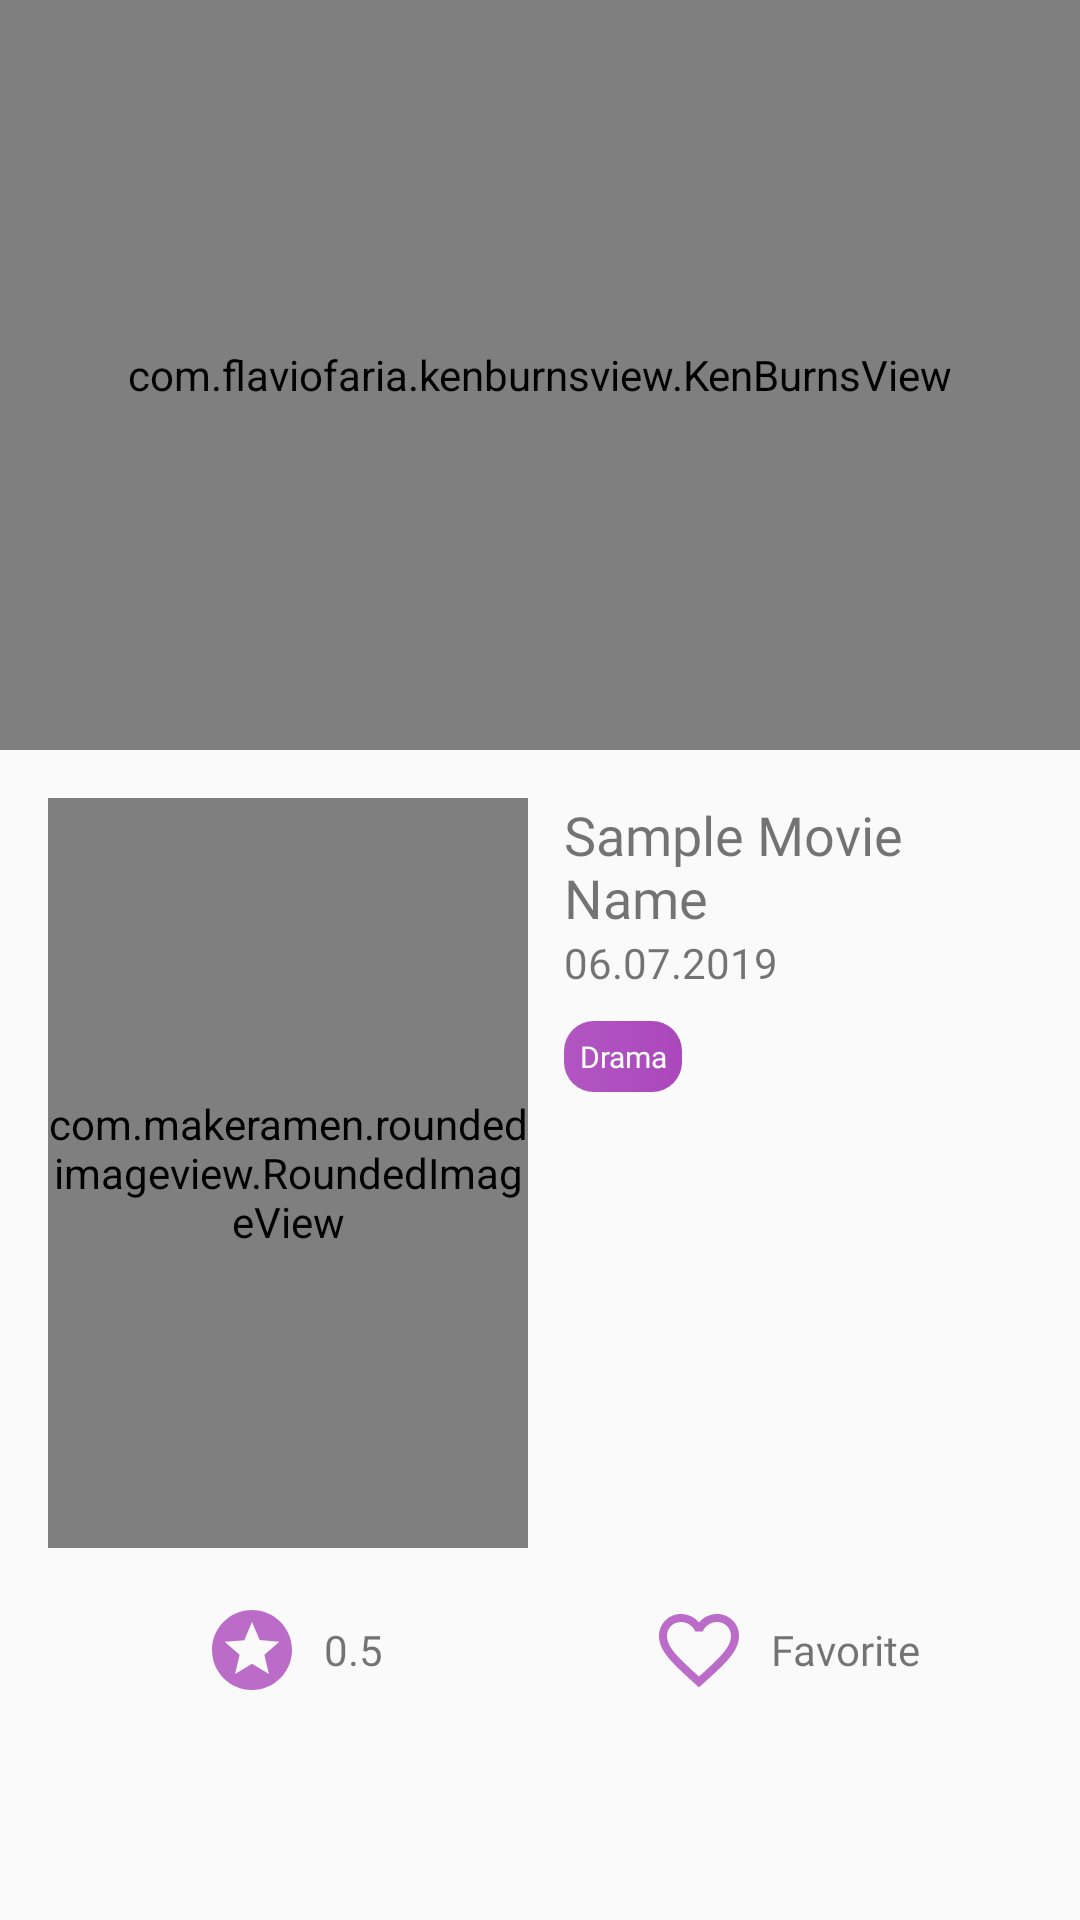

Where icons sit on this 1080*1920 app screen, as (x1, y1, x2, y2):
vote average: (212, 1610, 292, 1690)
